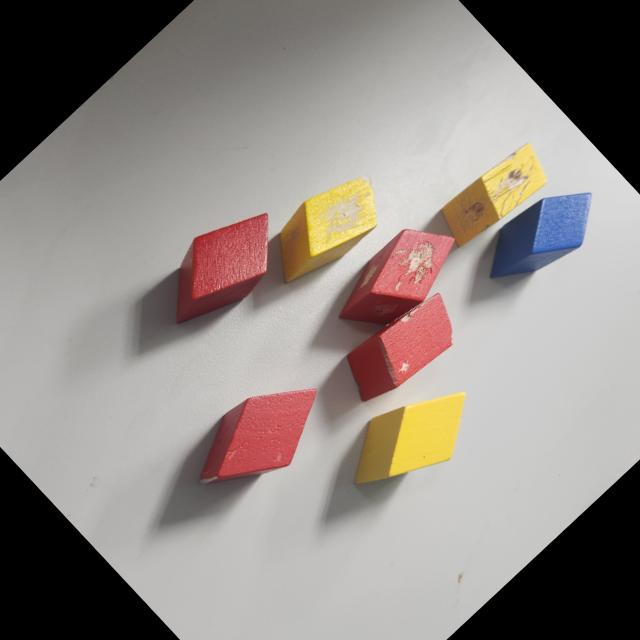blue: (471, 166, 615, 306)
broken: (177, 356, 342, 518), (324, 207, 472, 351), (255, 159, 396, 296), (334, 279, 474, 415), (432, 134, 558, 255)
red: (143, 190, 300, 344)
yellow: (332, 360, 492, 517)
